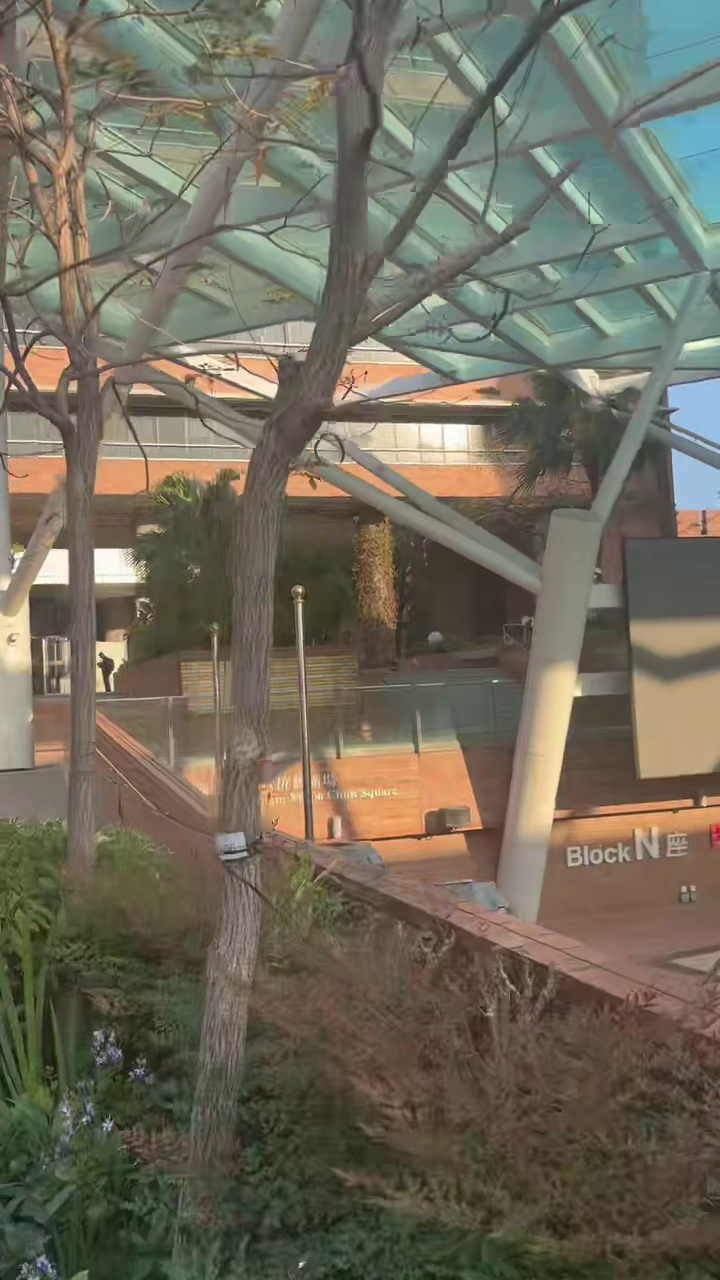Tabebuia chrysantha: (190, 0, 584, 1189)
